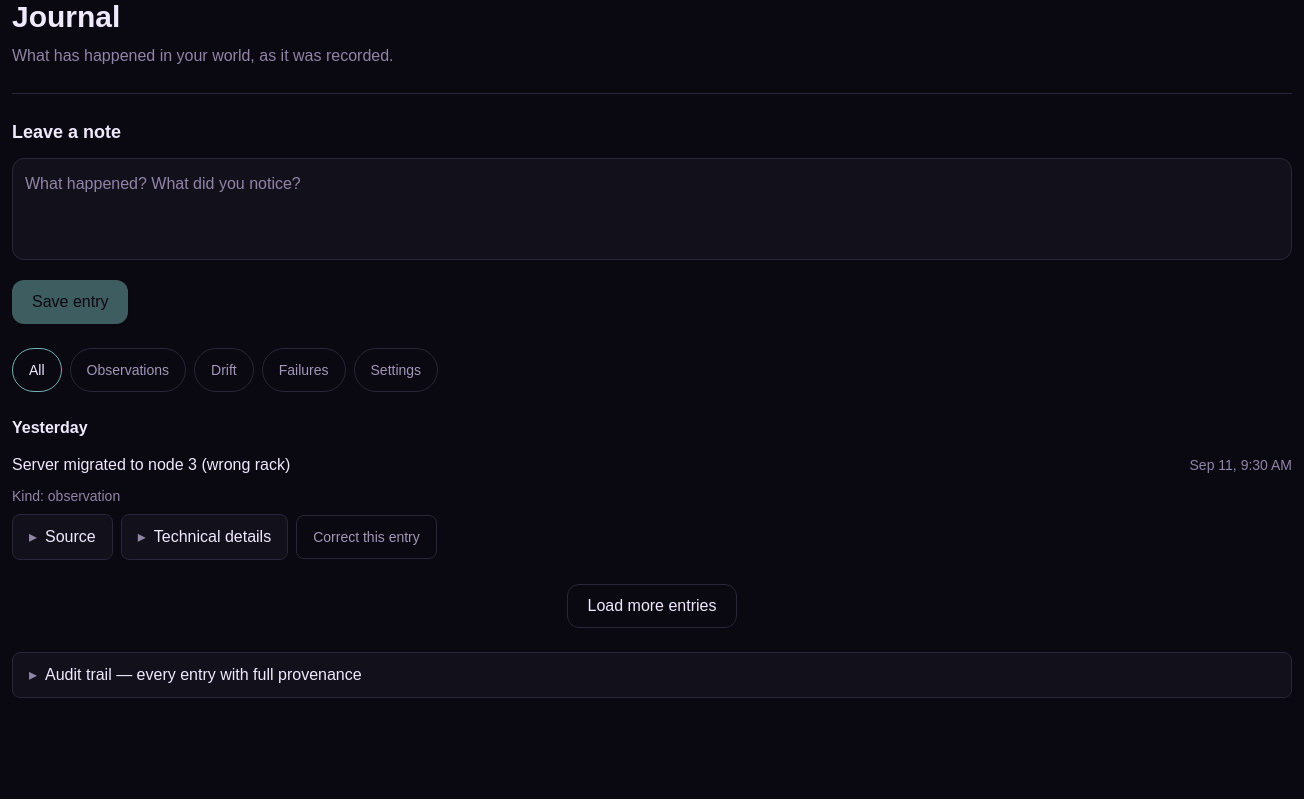
it: Journal correction workflow (propose → approve → act; original preserved) › failure state is honest and the way back is offered
Click the button "Correct this entry" at {"x": 366, "y": 537}, box [296,515,437,559]
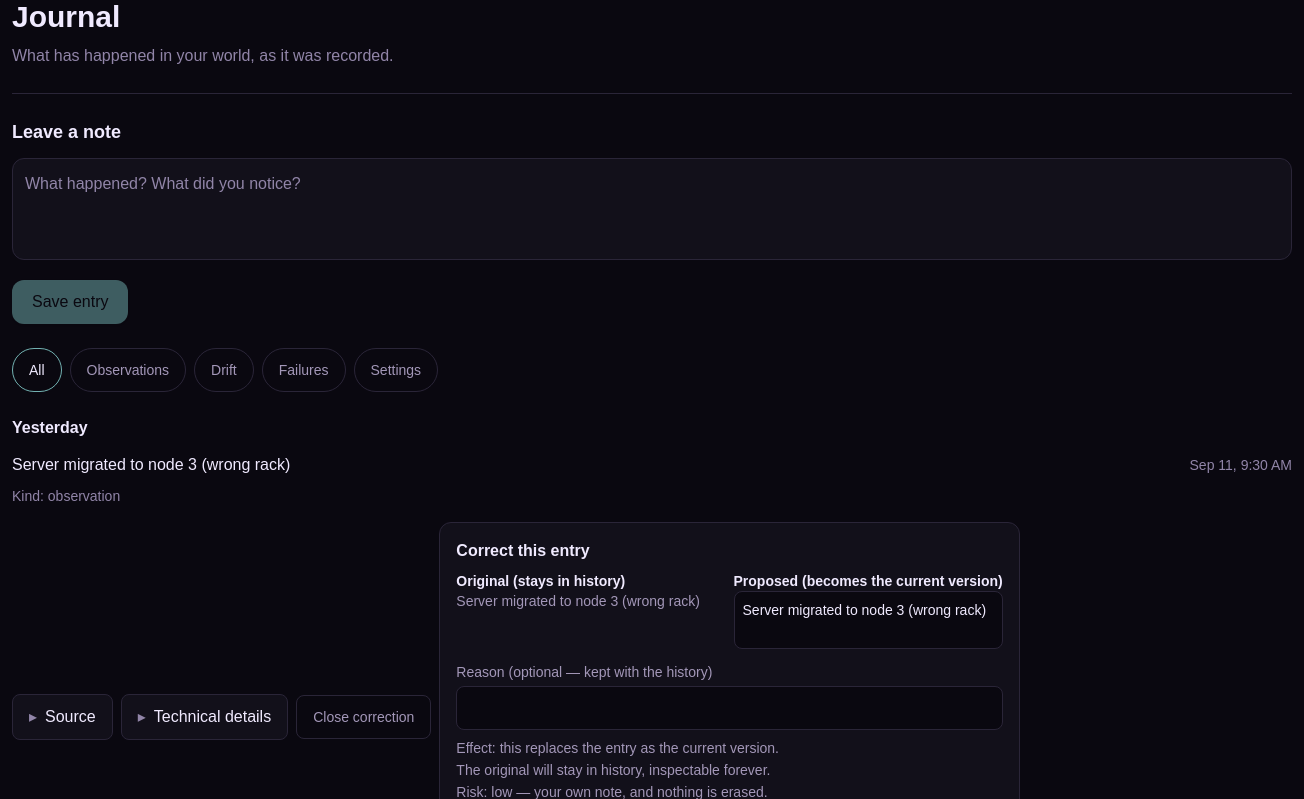
Replace the text in the text box named "Corrected entry text" with "attempt that will fail" at {"x": 868, "y": 620}, box [734,591,1003,649]
(page scrolled)
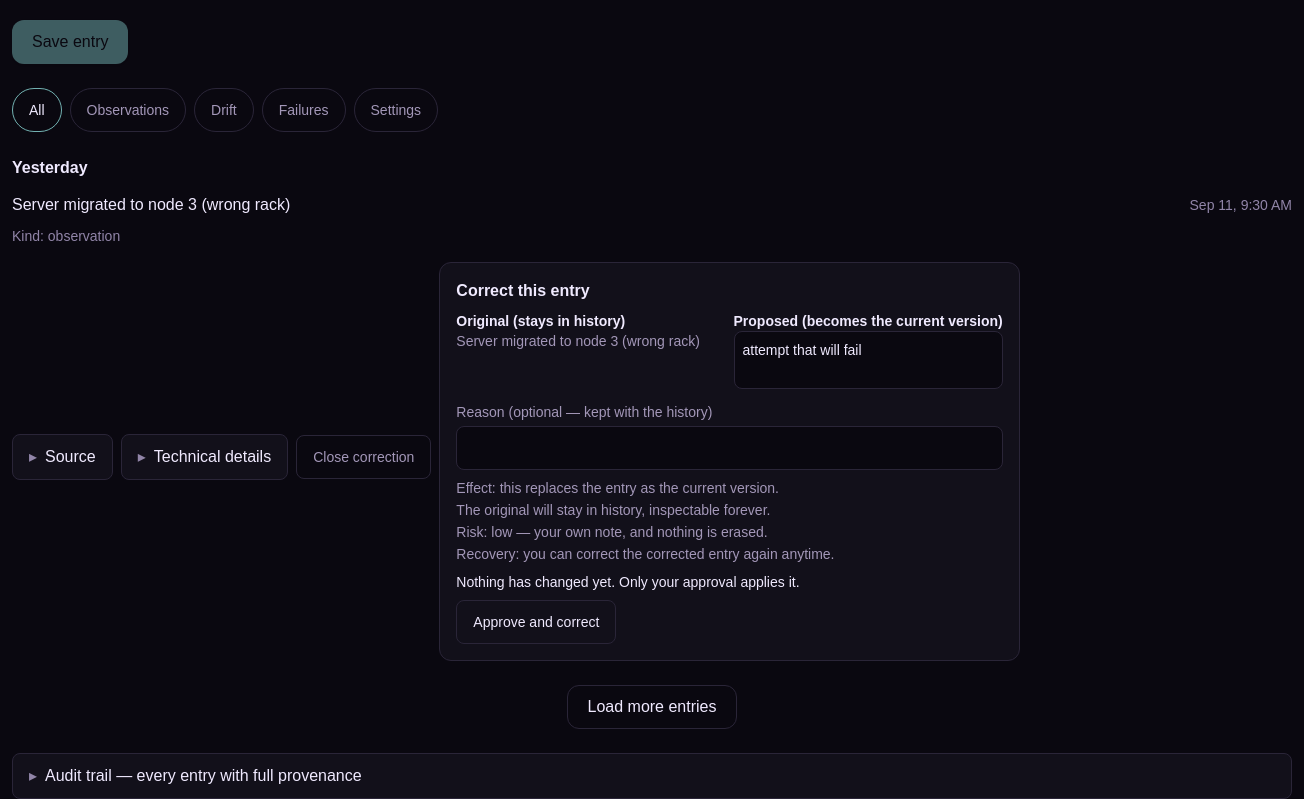
Click the button "Approve and correct" at {"x": 536, "y": 622}, box [456,600,616,644]
(page scrolled)
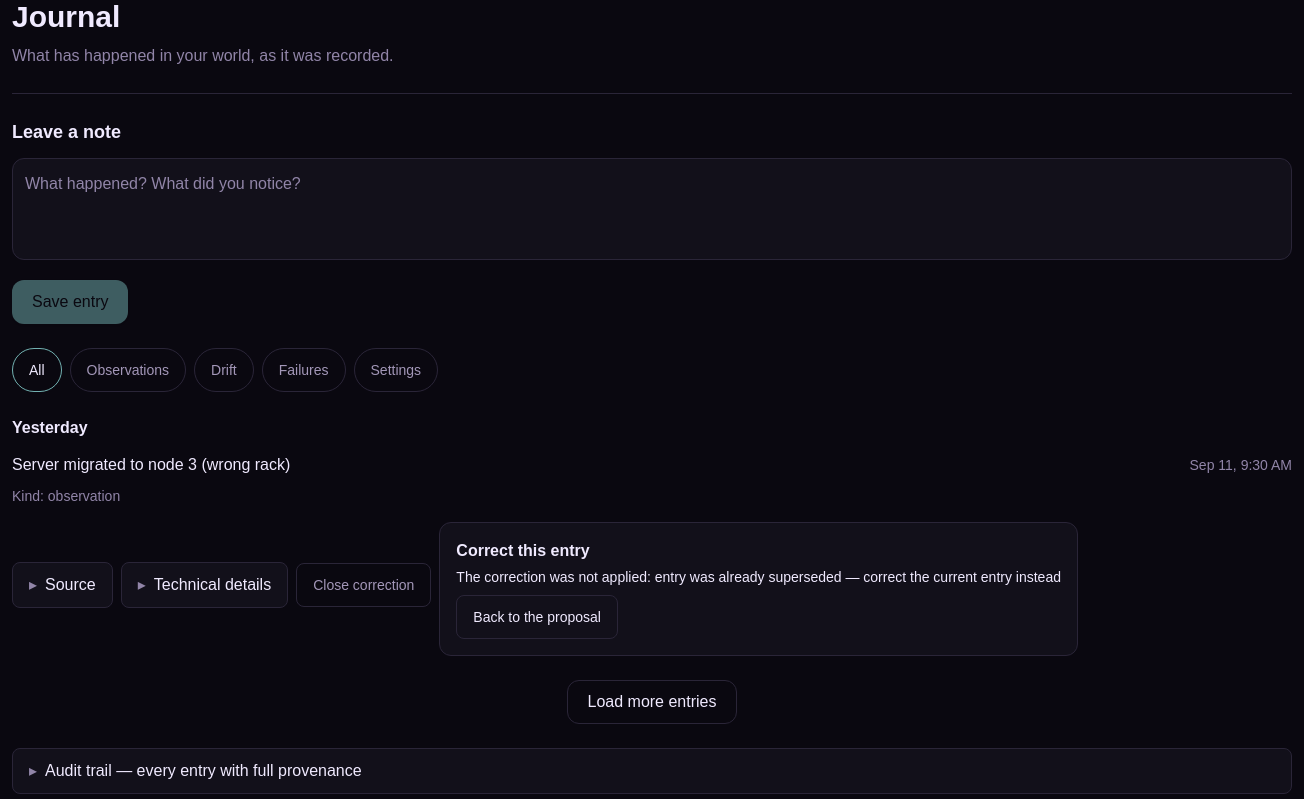
Now the text "The correction was not applied" is shown, box [456,569,655,585]
Now the text "already superseded" is shown, box [655,569,1061,585]
Click the button "Back to the proposal" at {"x": 537, "y": 617}, box [456,595,618,639]
(page scrolled)
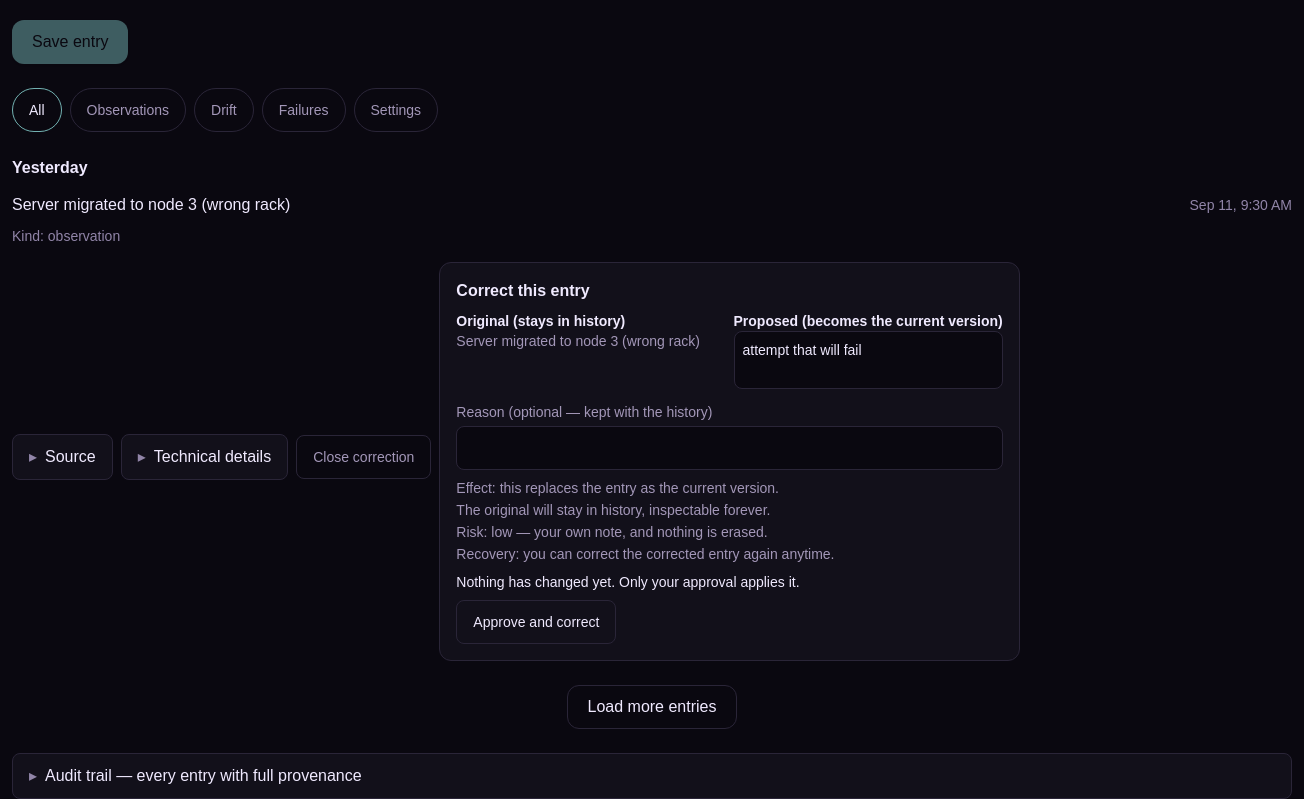
Now the text "Nothing has changed yet. Only your approval applies it." is shown, box [456,574,800,590]
